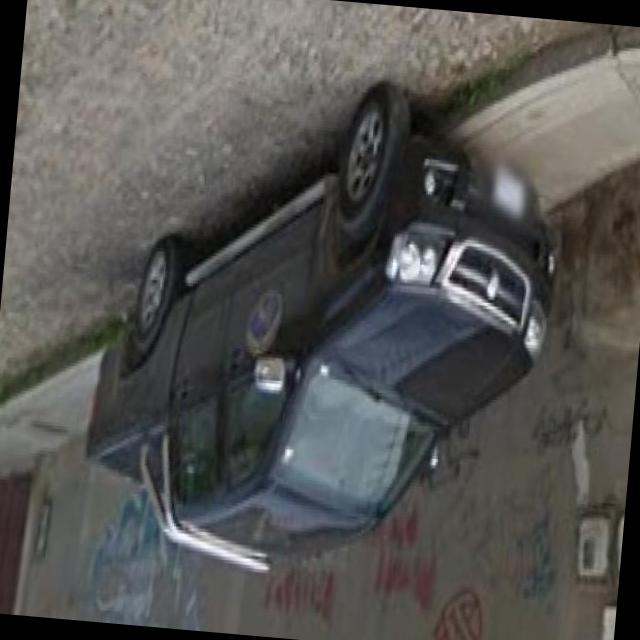car: (78, 70, 562, 580)
